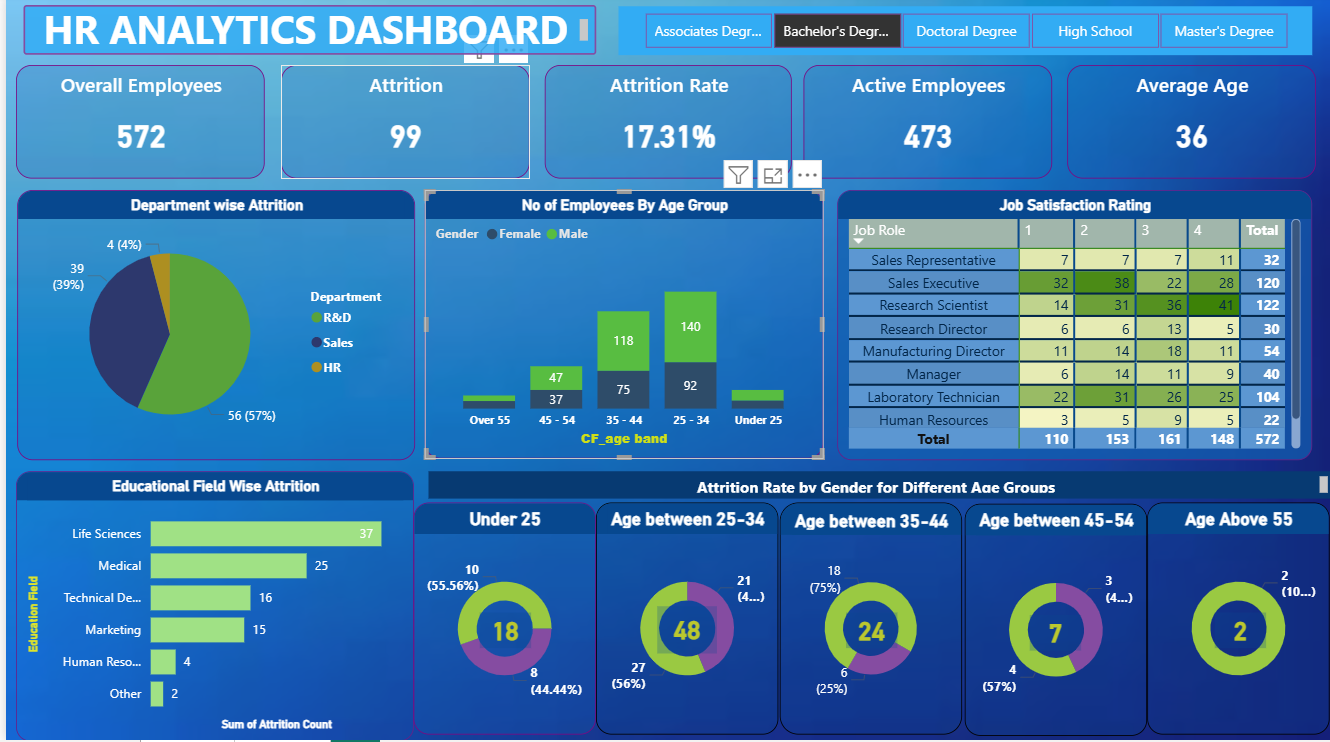

What the dashboard file says about the page in this screenshot:
{"tool":"powerbi","page":{"name":"Page 1","canvas":[1280,720],"ordinal":0},"visuals":[{"type":"card","title":"Overall Employees","fields":{"Values":["Sum(Data.Employee Count)"]},"box":[9.6,67.2,240.1,109.8],"z":0},{"type":"card","title":"Attrition","fields":{"Values":["Sum(Data.Attrition Count)"]},"box":[264.8,67.2,240.1,109.8],"z":1000},{"type":"card","title":"Attrition Rate","fields":{"Values":["Data.Attrition Rate"]},"box":[520.1,67.2,238.8,109.8],"z":2000},{"type":"card","title":"Active  Employees","fields":{"Values":["Data.Active Employees"]},"box":[769.8,67.2,240.1,109.8],"z":3000},{"type":"card","title":"Average Age","fields":{"Values":["Data.Average Age"]},"box":[1023.7,67.2,240.1,109.8],"z":4000},{"type":"pieChart","title":"Department wise Attrition","fields":{"Category":["Data.Department"],"Y":["Sum(Data.Attrition Count)"]},"box":[11,188,384.2,260.7],"z":5000},{"type":"columnChart","title":"No of Employees By Age Group","fields":{"Y":["Sum(Data.Employee Count)"],"Category":["Data.CF_age band"],"Series":["Data.Gender"]},"box":[407.5,189.4,385.6,259.3],"z":6000},{"type":"pivotTable","title":"Job Satisfaction Rating","fields":{"Rows":["Data.Job Role"],"Columns":["Data.Job Satisfaction"],"Values":["Sum(Data.Employee Count)"]},"box":[802.7,188,458.3,260.7],"z":7000},{"type":"barChart","title":"Educational Field Wise Attrition","fields":{"Category":["Data.Education Field"],"Y":["Sum(Data.Attrition Count)"]},"box":[9.6,459.7,384.2,260.7],"z":8000},{"type":"donutChart","title":"Under 25","fields":{"Category":["Data.Gender"],"Y":["Sum(Data.Attrition Count)"],"Series":["Data.CF_age band"]},"box":[393.8,489.9,175.6,223.7],"z":9000},{"type":"textbox","box":[407.5,459.7,872.7,26.1],"z":10000},{"type":"donutChart","title":"Age between 35-44","fields":{"Category":["Data.Gender"],"Series":["Data.CF_age band"],"Y":["Sum(Data.Attrition Count)"]},"box":[746.5,489.9,175.6,223.7],"z":11000},{"type":"donutChart","title":"Age Above 55","fields":{"Category":["Data.Gender"],"Series":["Data.CF_age band"],"Y":["Sum(Data.Attrition Count)"]},"box":[1101.9,489.9,175.6,223.7],"z":12000},{"type":"donutChart","title":"Age between 45-54","fields":{"Category":["Data.Gender"],"Series":["Data.CF_age band"],"Y":["Sum(Data.Attrition Count)"]},"box":[924.9,491.3,175.6,223.7],"z":13000},{"type":"donutChart","title":"Age between 25-34","fields":{"Category":["Data.Gender"],"Series":["Data.CF_age band"],"Y":["Sum(Data.Attrition Count)"]},"box":[569.5,489.9,175.6,223.7],"z":14000},{"type":"card","fields":{"Values":["Sum(Data.Attrition Count)"]},"box":[456.9,595.5,49.4,34.3],"z":15000},{"type":"card","fields":{"Values":["Sum(Data.Attrition Count)"]},"box":[628.5,590.1,57.6,45.3],"z":16000},{"type":"card","fields":{"Values":["Sum(Data.Attrition Count)"]},"box":[811,595.5,49.4,34.3],"z":17000},{"type":"card","fields":{"Values":["Sum(Data.Attrition Count)"]},"box":[1166.4,595.5,49.4,34.3],"z":18000},{"type":"card","fields":{"Values":["Sum(Data.Attrition Count)"]},"box":[988,598.3,49.4,34.3],"z":19000},{"type":"textbox","box":[16.5,9.6,553,48],"z":20000},{"type":"slicer","fields":{"Values":["Data.Education"]},"box":[591.2,10.9,669.6,47.1],"z":20001}]}

Visuals, with their boxes in screenshot pixels (x1, y1, x2, y2), scaled from the page's 1280x720 canvas onto the 1330x742 screenshot:
"Overall Employees" card: 10:69:259:182
"Attrition" card: 275:69:525:182
"Attrition Rate" card: 540:69:789:182
"Active  Employees" card: 800:69:1049:182
"Average Age" card: 1064:69:1313:182
"Department wise Attrition" pieChart: 11:194:411:462
"No of Employees By Age Group" columnChart: 423:195:824:462
"Job Satisfaction Rating" pivotTable: 834:194:1310:462
"Educational Field Wise Attrition" barChart: 10:474:409:741
"Under 25" donutChart: 409:505:592:735
textbox: 423:474:1329:501
"Age between 35-44" donutChart: 776:505:958:735
"Age Above 55" donutChart: 1145:505:1327:735
"Age between 45-54" donutChart: 961:506:1143:737
"Age between 25-34" donutChart: 592:505:774:735
card - Sum(Data.Attrition Count): 475:614:526:649
card - Sum(Data.Attrition Count): 653:608:713:655
card - Sum(Data.Attrition Count): 843:614:894:649
card - Sum(Data.Attrition Count): 1212:614:1263:649
card - Sum(Data.Attrition Count): 1027:617:1078:652
textbox: 17:10:592:59
slicer - Data.Education: 614:11:1310:60
